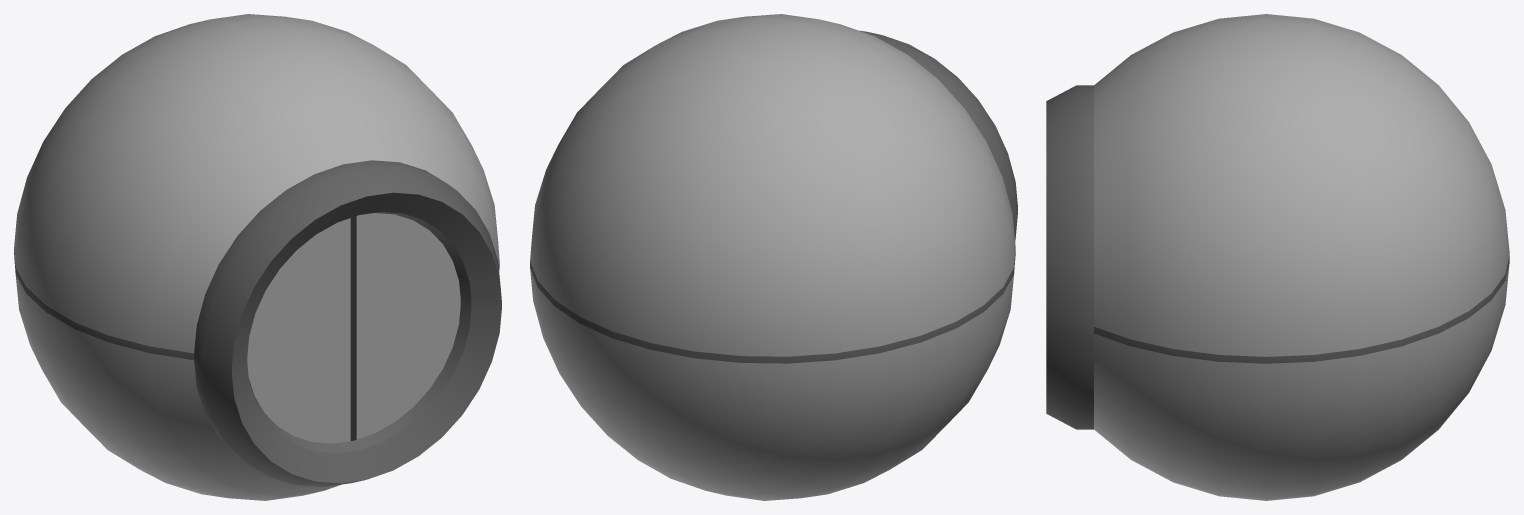
File: House Single.glb
The picture shows the model from 3 angles, left to right: view 1: azimuth 30°, elevation 25°; view 2: azimuth 150°, elevation 25°; view 3: azimuth 270°, elevation 25°; orthographic projection.
Parts seen in each view (by area): view 1: House_Single; view 2: House_Single; view 3: House_Single.
Part boxes in pixels (left/top/right/bottom): House_Single: left=14, top=14, right=501, bottom=500; House_Single: left=530, top=14, right=1017, bottom=500; House_Single: left=1046, top=14, right=1509, bottom=500.
Size of the model in its own units: 3.99 by 4 by 3.8.
Materials: 1 (1 with a texture image).
